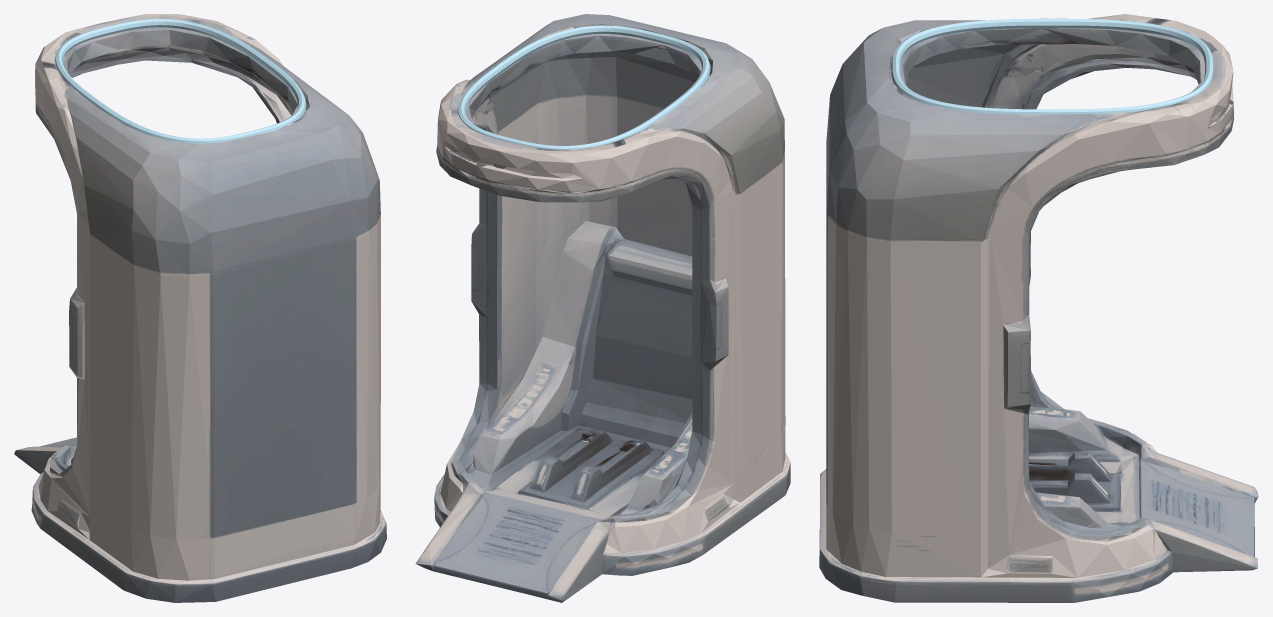
File: P_ChargePod_002.obj
3 views of the same model, side by side, from view 1: azimuth 30°, elevation 25°; view 2: azimuth 150°, elevation 25°; view 3: azimuth 270°, elevation 25° (orthographic). The views are drawn at different scales.
Size of the model in its own units: 0.9843 by 1.56 by 1.32.
Materials: 2 (1 with a texture image).
